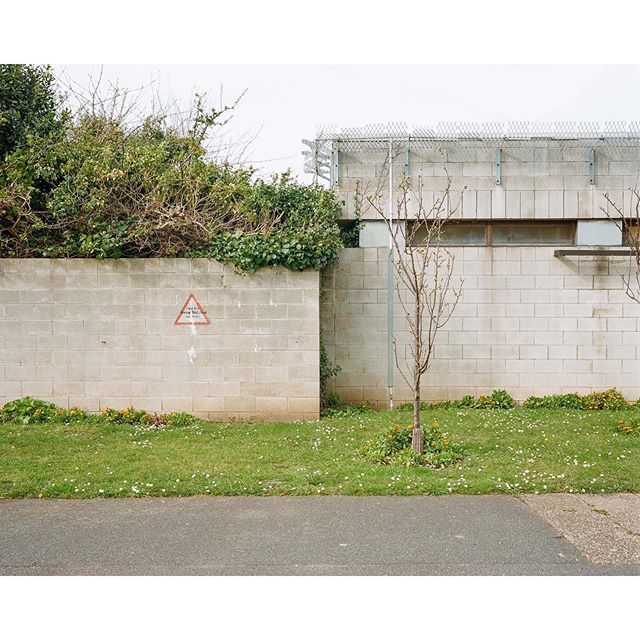building: (301, 134, 640, 424)
grass: (1, 403, 635, 496)
vegetation: (1, 62, 324, 266)
